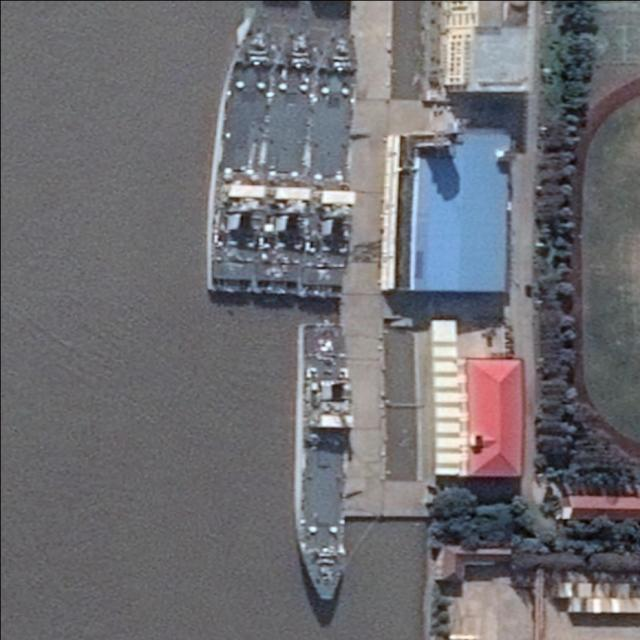Landing: (205, 19, 278, 295), (255, 26, 321, 295), (295, 321, 352, 601), (304, 24, 356, 298)
